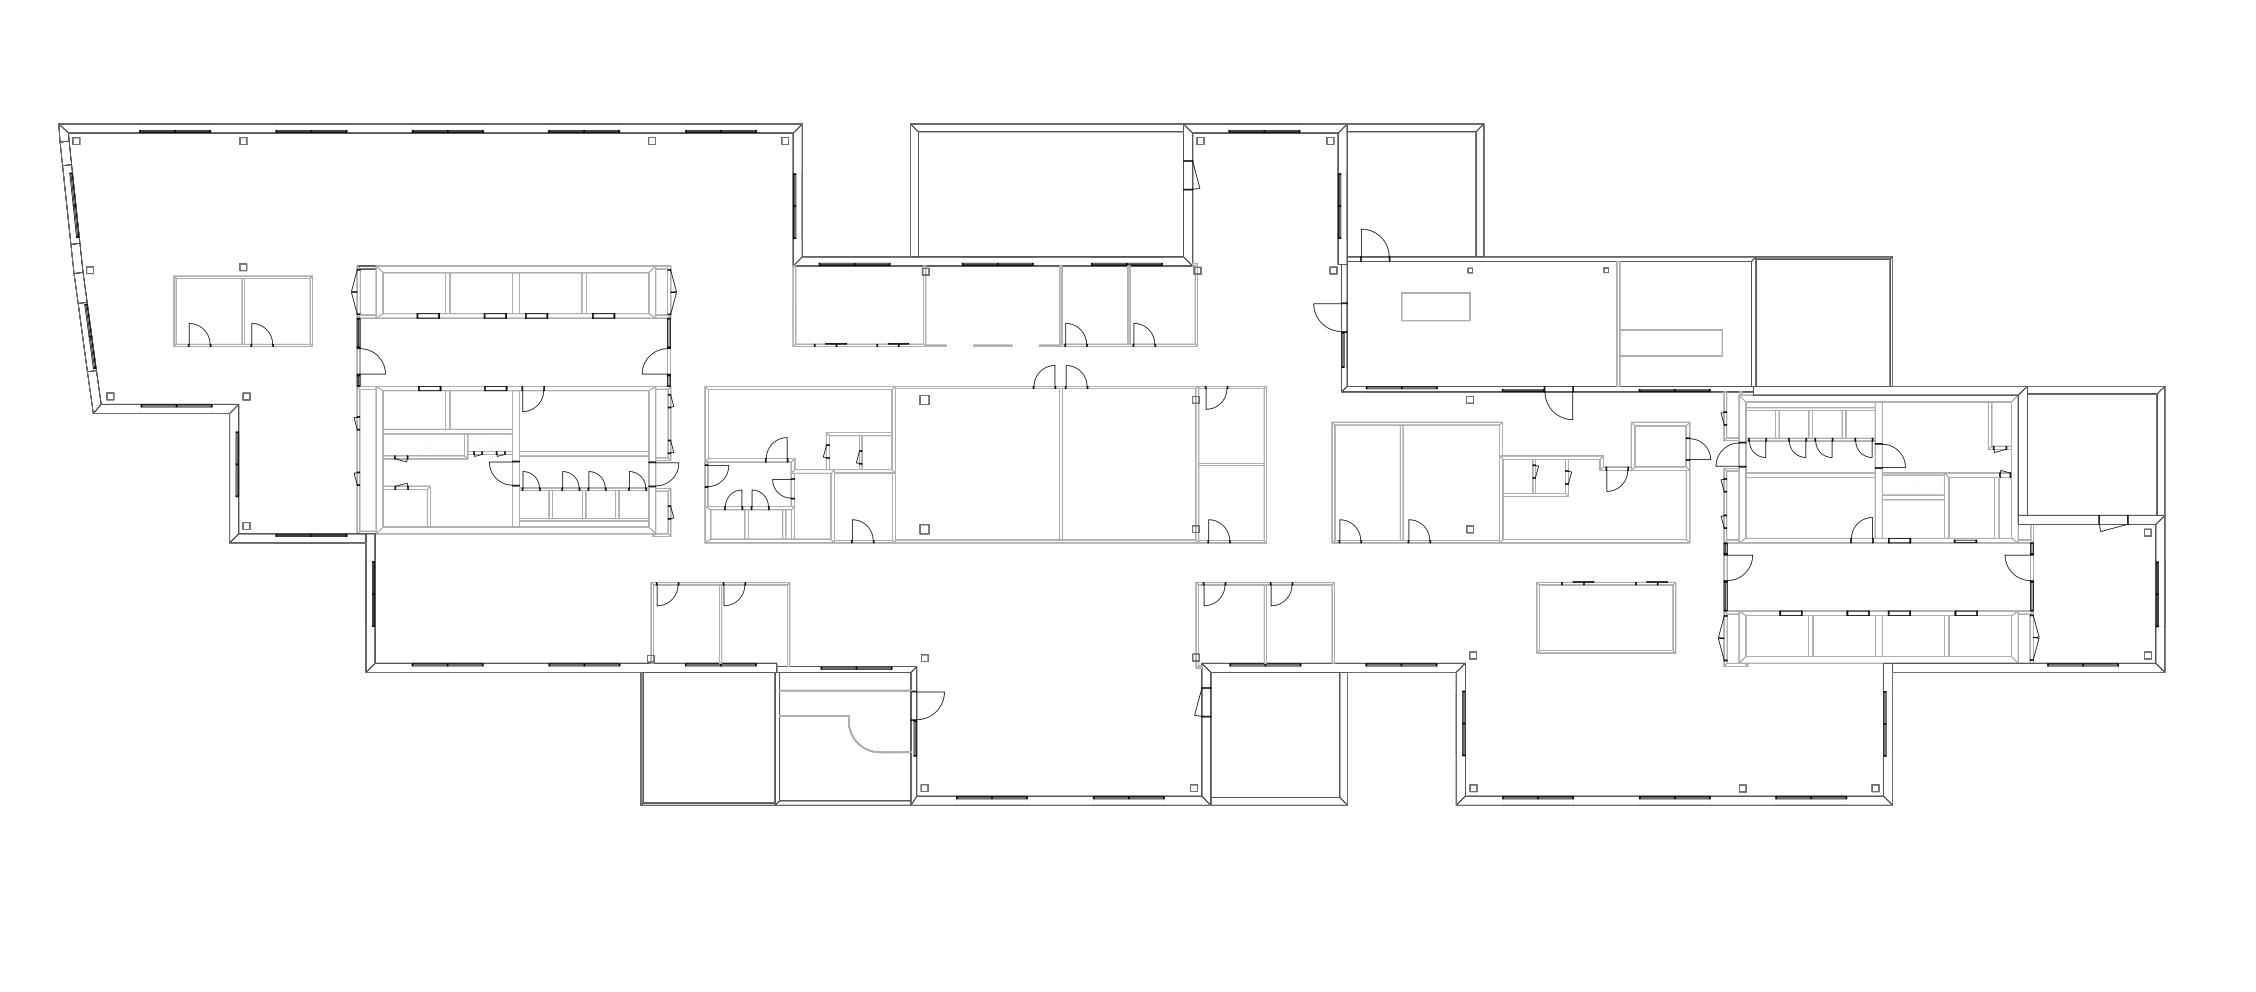room: (1348, 261, 1616, 386), (918, 131, 1183, 256), (896, 389, 1060, 540), (360, 317, 668, 386), (1727, 541, 2030, 610), (1063, 389, 1196, 541), (642, 672, 774, 802), (1757, 258, 1891, 386), (2033, 524, 2155, 664), (780, 672, 909, 801), (1620, 261, 1752, 384), (1348, 131, 1476, 256), (1211, 672, 1339, 798), (2029, 394, 2157, 515), (1403, 425, 1499, 541), (927, 266, 1060, 344), (796, 265, 924, 344), (1883, 402, 2013, 474), (1539, 585, 1673, 651), (1747, 477, 1873, 538), (519, 392, 649, 452), (1335, 425, 1400, 540), (1062, 265, 1128, 344), (1129, 265, 1196, 344), (653, 585, 719, 662), (722, 585, 788, 662), (1266, 586, 1332, 664), (1198, 585, 1263, 662), (1198, 389, 1265, 464), (1198, 465, 1265, 540), (245, 278, 311, 346), (1747, 439, 1875, 474), (176, 278, 242, 344), (519, 455, 647, 488), (1950, 477, 1994, 538), (1634, 425, 1686, 466)
